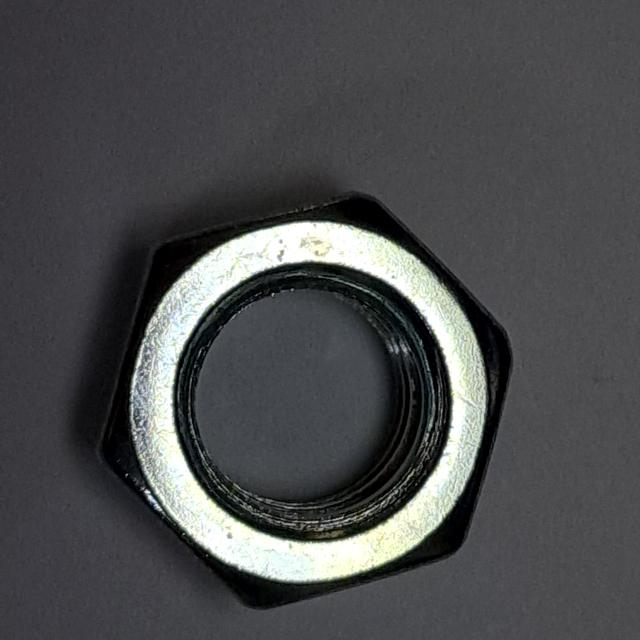Excellent: (83, 181, 523, 623)
